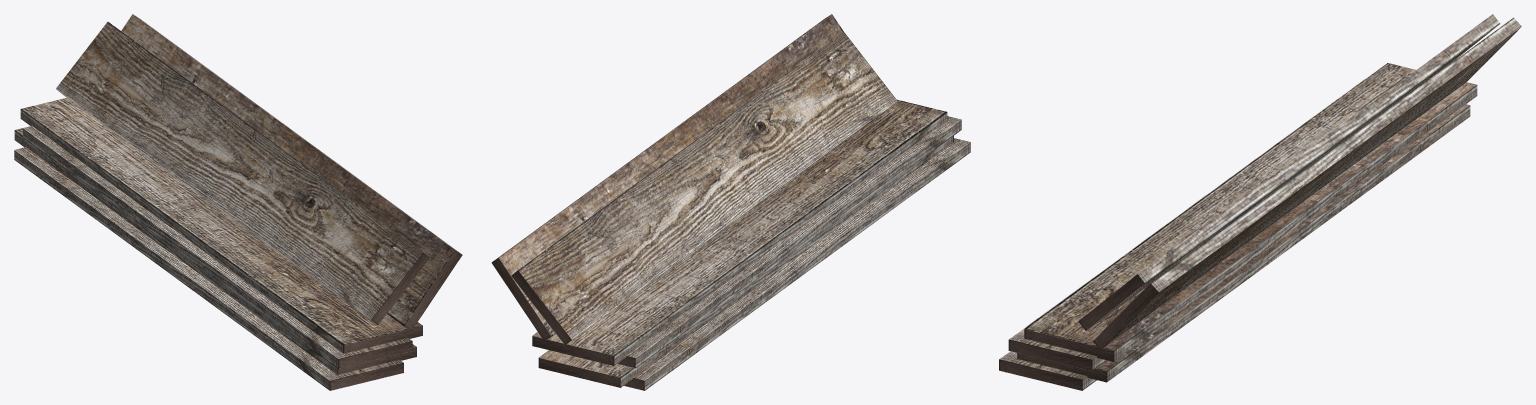
The model's file is TablasTaller.FBX.
3 views of the same model, side by side, from view 1: azimuth 30°, elevation 25°; view 2: azimuth 150°, elevation 25°; view 3: azimuth 330°, elevation 25° (orthographic). The views are drawn at different scales.
Visible parts, largest first — view 1: Tablas002, Tapeo024, Tapeo025, Tablas, Tablas001, Tapeo023; view 2: Tablas002, Tapeo024, Tapeo025, Tablas, Tablas001, Tapeo023; view 3: Tapeo024, Tapeo025, Tablas002, Tapeo023, Tablas001, Tablas.
Part boxes in pixels (bbox=[...]): Tablas002: bbox=[56, 22, 429, 324]; Tapeo024: bbox=[20, 97, 422, 353]; Tapeo025: bbox=[121, 14, 462, 330]; Tablas: bbox=[14, 147, 403, 390]; Tablas001: bbox=[23, 126, 412, 368]; Tapeo023: bbox=[14, 128, 416, 374]; Tablas002: bbox=[511, 32, 897, 344]; Tapeo024: bbox=[532, 99, 947, 365]; Tapeo025: bbox=[491, 14, 843, 340]; Tablas: bbox=[624, 138, 970, 390]; Tablas001: bbox=[617, 116, 961, 368]; Tapeo023: bbox=[538, 136, 953, 387]; Tapeo024: bbox=[1024, 63, 1477, 361]; Tapeo025: bbox=[1093, 17, 1521, 349]; Tablas002: bbox=[1078, 14, 1500, 330]; Tapeo023: bbox=[1017, 104, 1470, 382]; Tablas001: bbox=[1008, 79, 1364, 370]; Tablas: bbox=[999, 351, 1097, 390].
Size of the model in its own units: 22.77 by 16.78 by 95.06.
